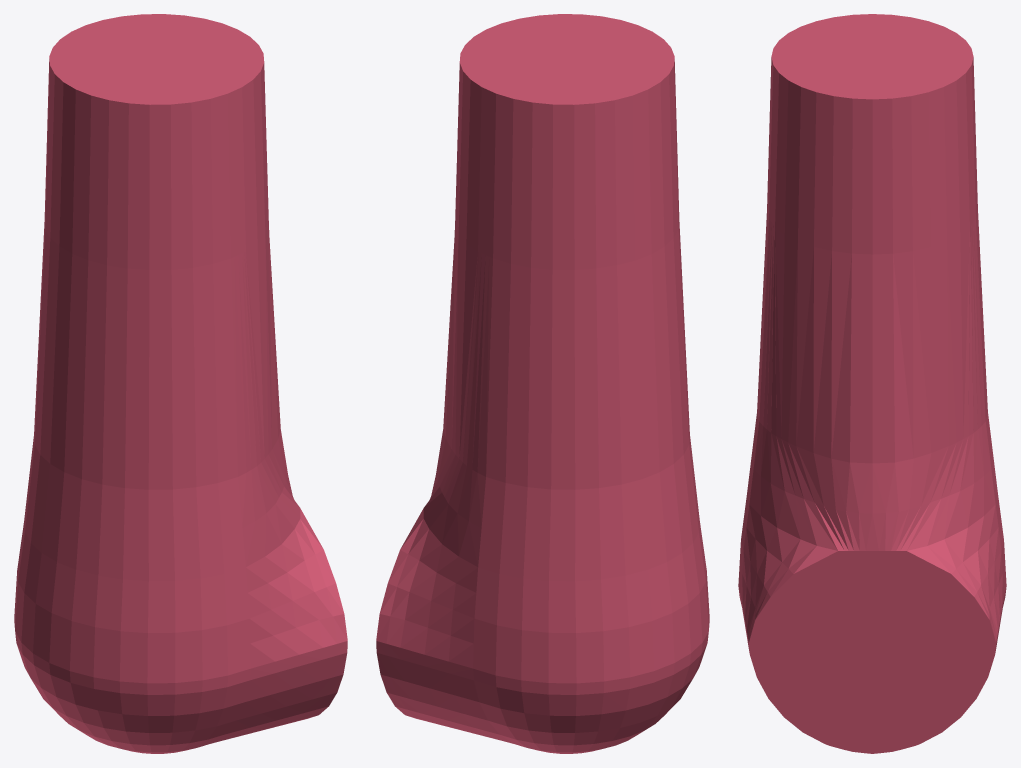
The picture shows the model from 3 angles, left to right: view 1: azimuth 30°, elevation 25°; view 2: azimuth 150°, elevation 25°; view 3: azimuth 270°, elevation 25°; orthographic projection. The views are drawn at different scales.
Visible parts, largest first — view 1: link_3_collision; view 2: link_3_collision; view 3: link_3_collision.
Part boxes in pixels (left/top/right/bottom): link_3_collision: left=14, top=14, right=347, bottom=753; link_3_collision: left=376, top=14, right=709, bottom=753; link_3_collision: left=738, top=14, right=1006, bottom=753.
Size of the model in its own units: 0.2751 by 0.2736 by 0.7202.
